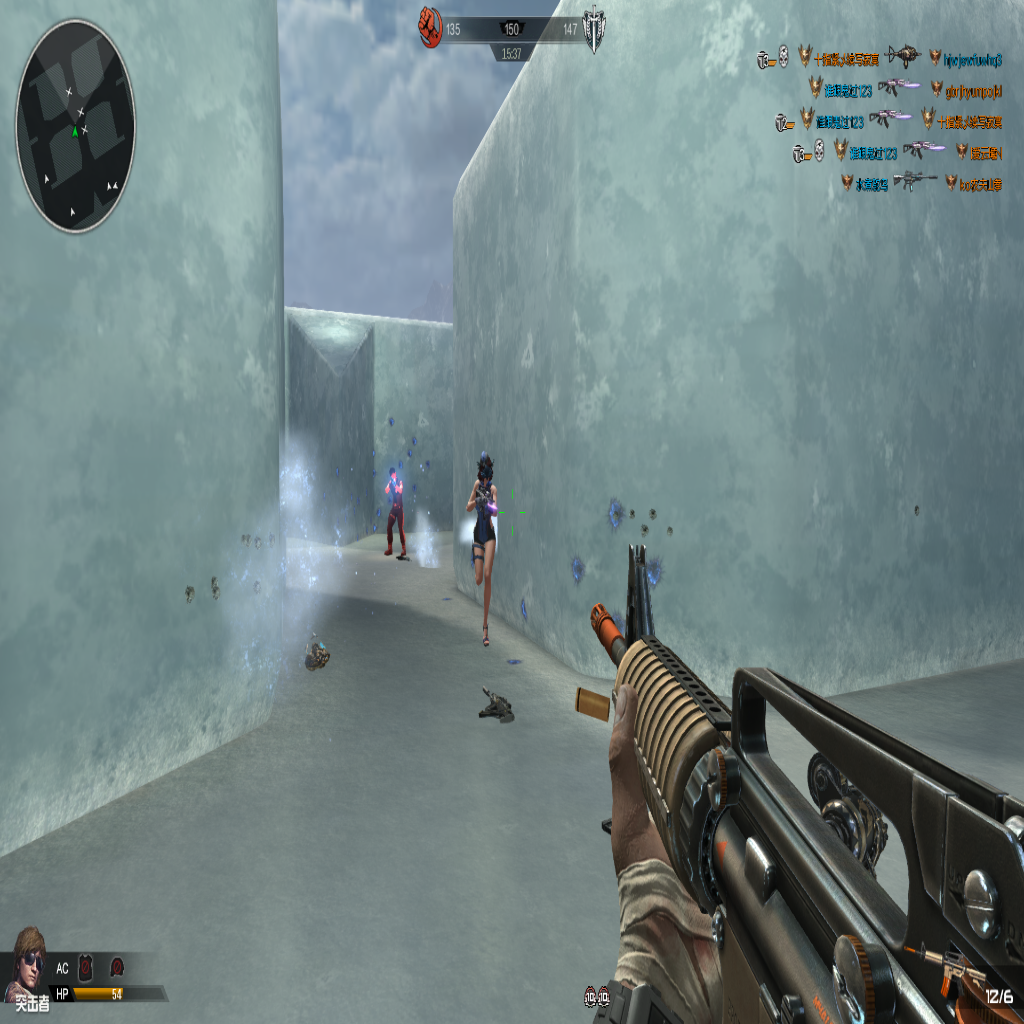ct: (469, 451, 498, 647), (381, 459, 408, 558)
